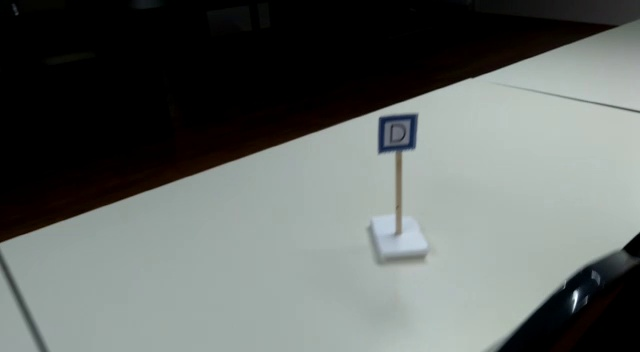durak: (379, 112, 416, 154)
